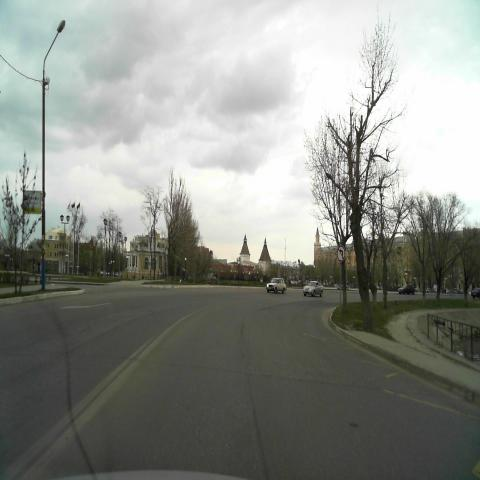3_18_2: (336, 244, 346, 263)
